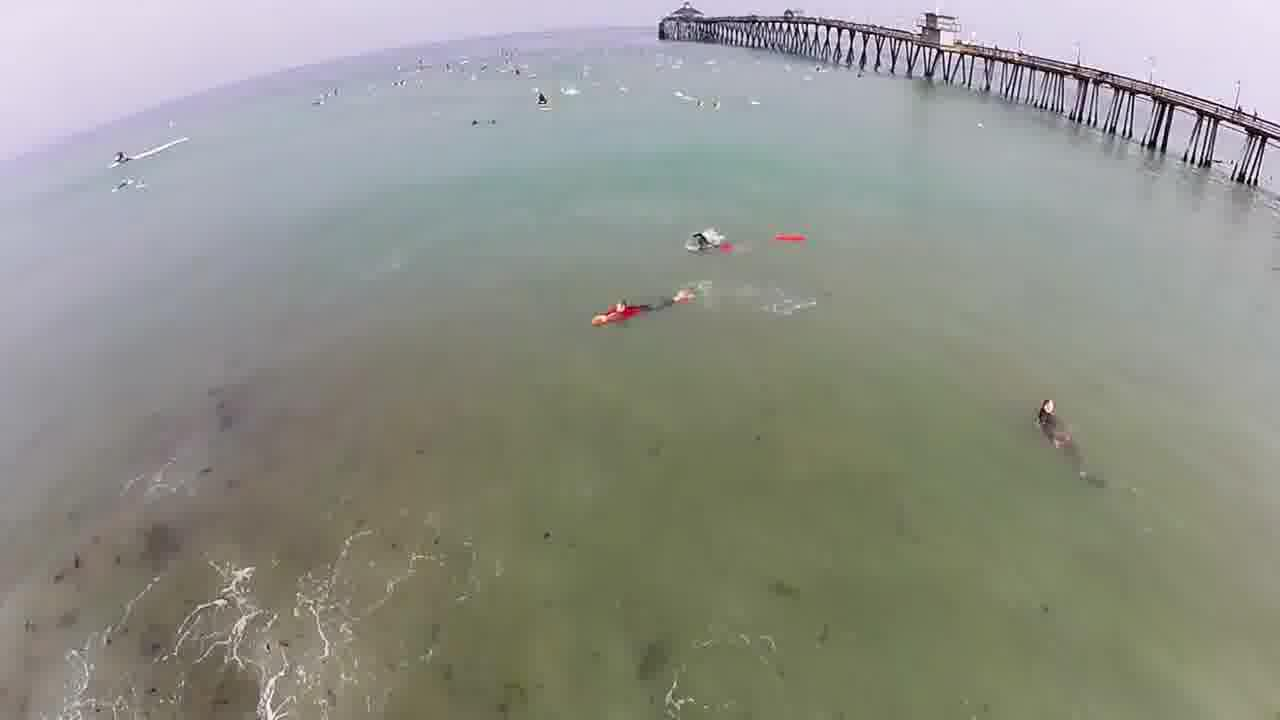human: (1027, 389, 1108, 483), (581, 285, 709, 322)
